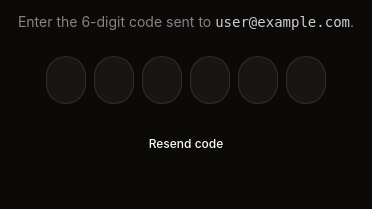
Test: VerifyEmailPage — authenticated › shows the same neutral resend confirmation regardless of API outcome
The width and height of the screenshot is (372, 209).
Click the button "Resend code". click: (186, 144)
box: [133,128,239,160]
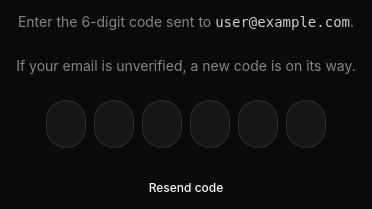
Expected: the text "If your email is unverified, a new code is on its way." is shown, [16,57,356,74]
